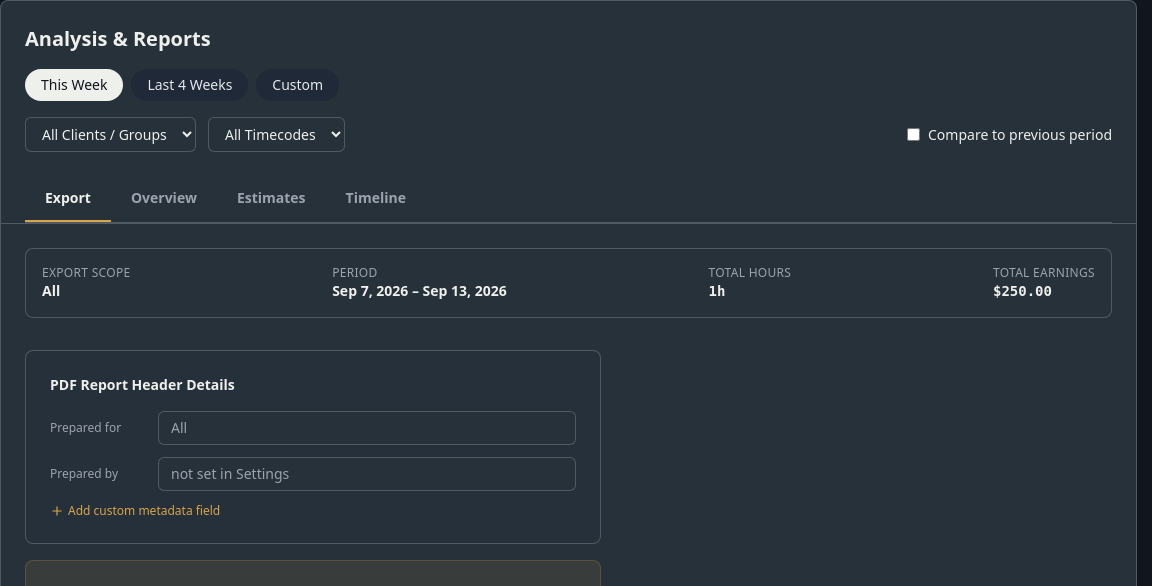
Test: a flat fee on an entry that also has tracked time › says on screen that the clock and the billed hours differ, and why
The width and height of the screenshot is (1152, 586).
Step 1. Click the tab "Overview" → (164, 199), box [111, 176, 217, 222]
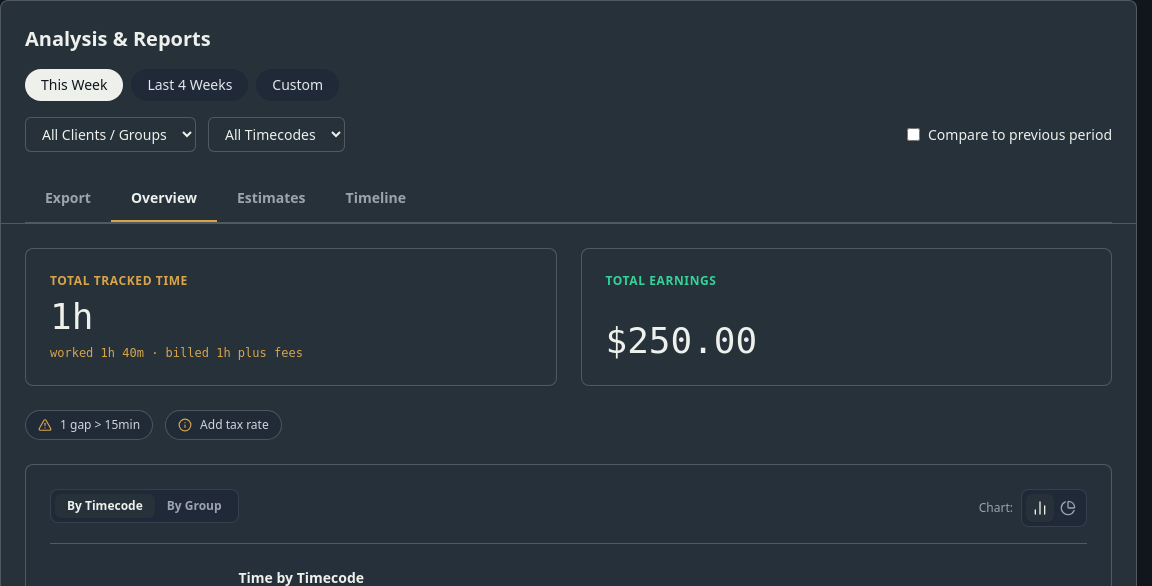
expect the text "worked 1h 40m · billed 1h plus fees" is shown: met, box [50, 346, 303, 360]
